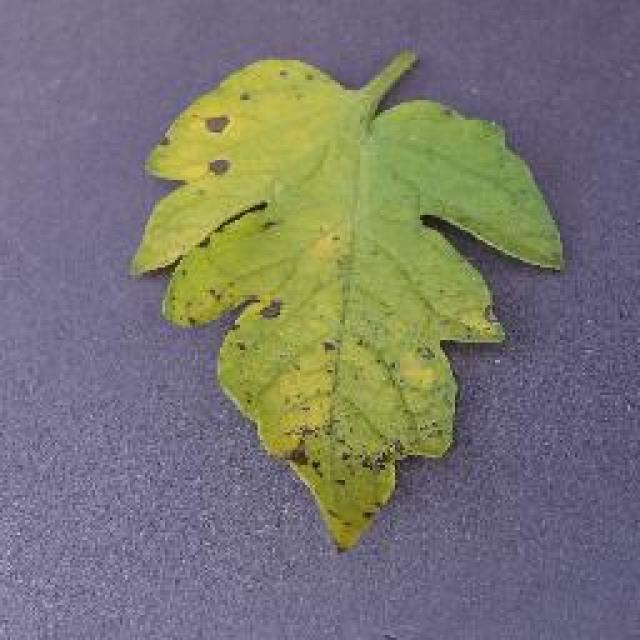Tomato___Septoria_leaf_spot: (132, 52, 560, 545)
